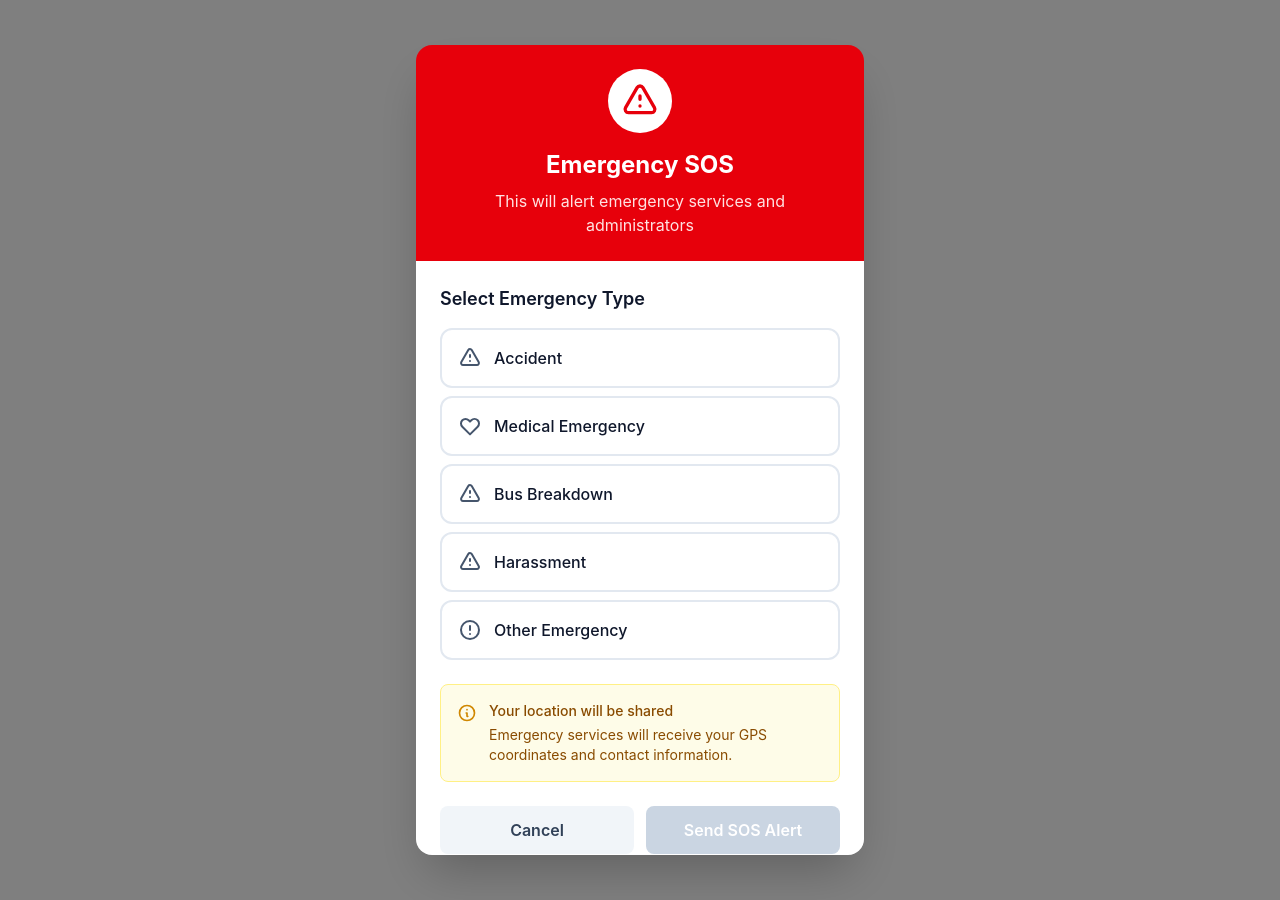
Test: SOSModal › renders and can select an emergency
Expected: the heading "Emergency SOS" is shown, 546,150 -> 734,179
Expected: the button "Send SOS Alert" is disabled, 646,806 -> 840,854
# Select medical emergency
Click the button "Medical Emergency" at (640, 426), box 440,396 -> 840,456
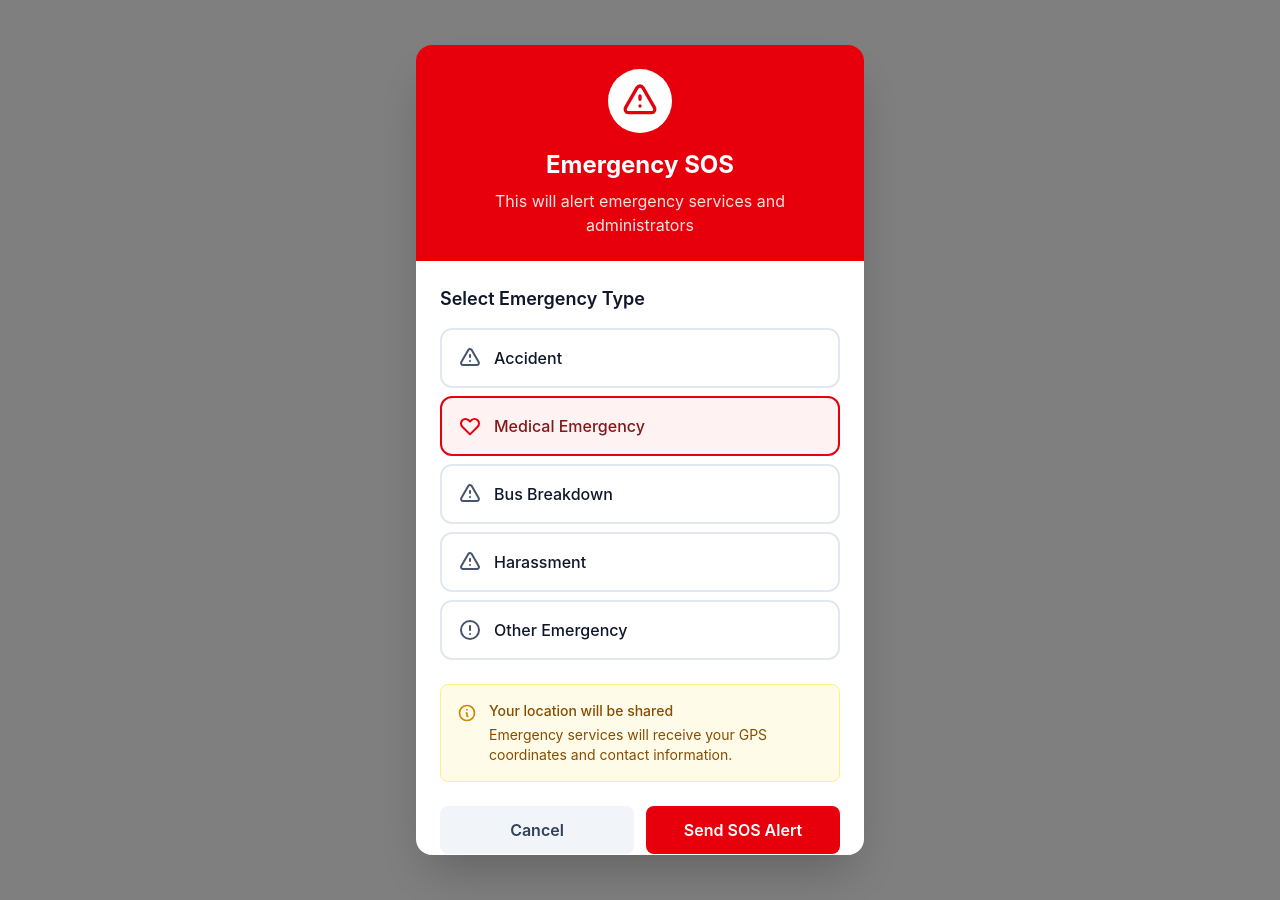
Expected: the button "Send SOS Alert" is enabled, 646,806 -> 840,854
